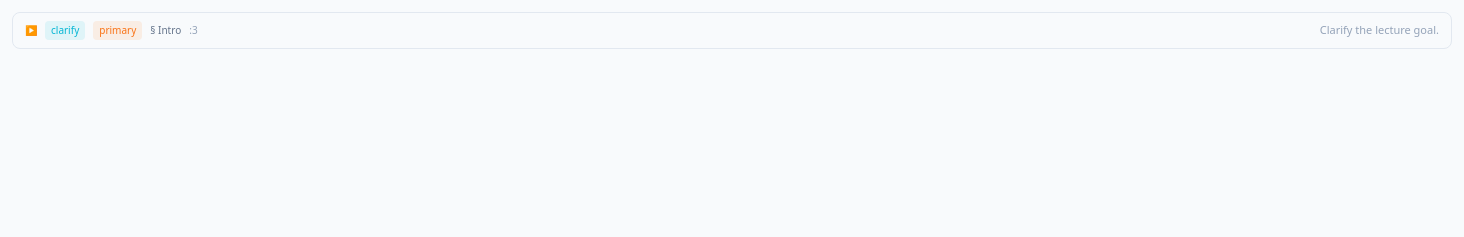
ChangeCard › labels a chosen status with the same name as the dropdown
This screenshot has width=1464, height=237.
Step 1. Click the button "▶ clarify primary § Intro :3 Clarify the lecture goal." → click(65, 30), box [13,13,1451,48]
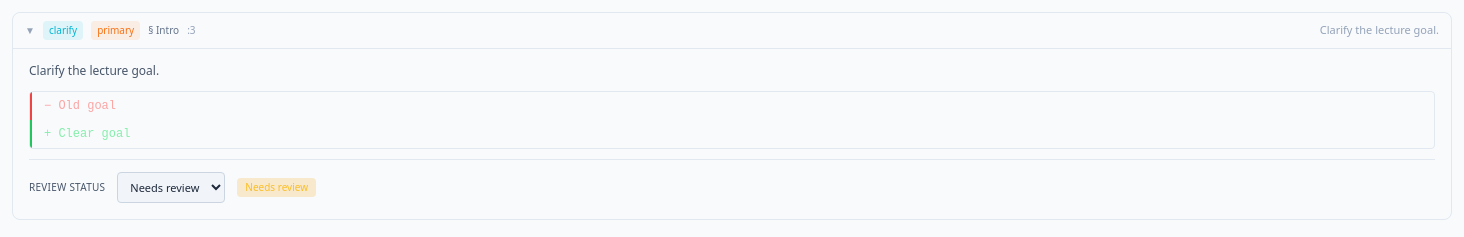
Expected: the text "Needs review" is shown 2 times
